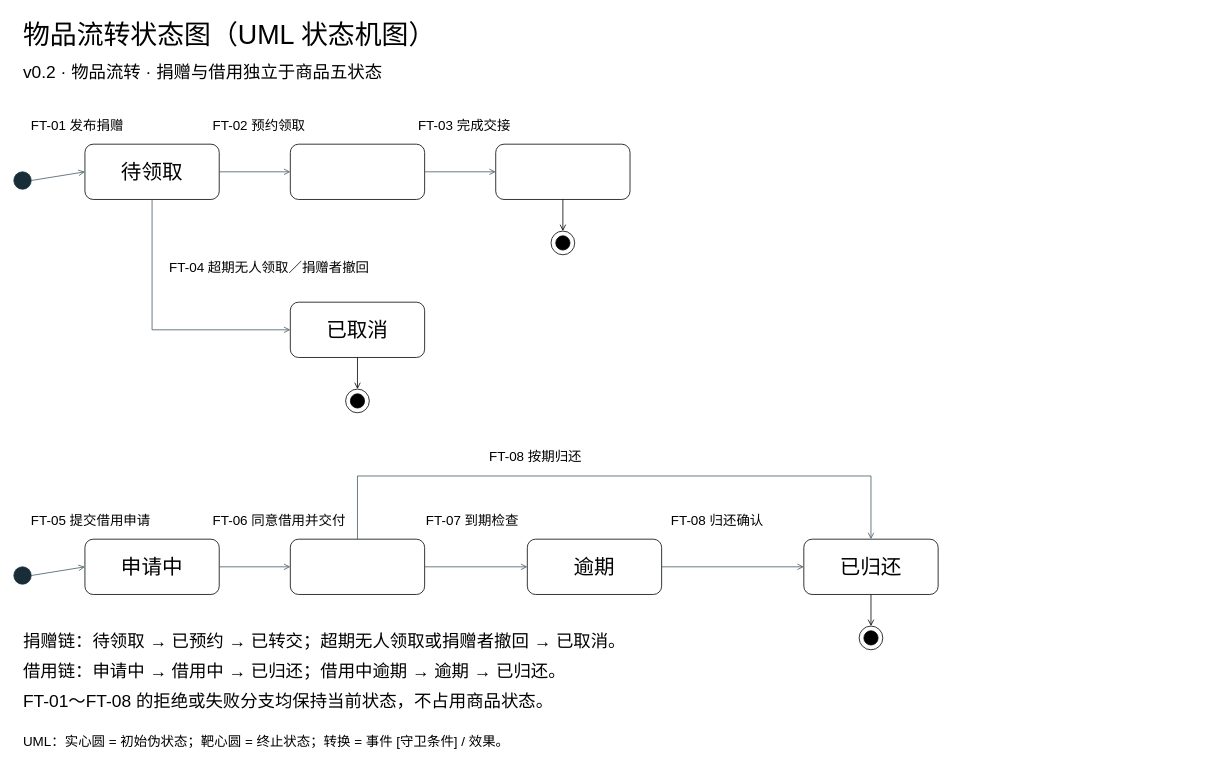
Some shapes in this 1205 by 769 pixel diagram are drawn without their labels. Here are the shapes that lost their labels. From the top down, the box of each, then its label:
(290, 143, 425, 199): 已预约
(495, 143, 630, 199): 已转交
(290, 538, 425, 594): 借用中
